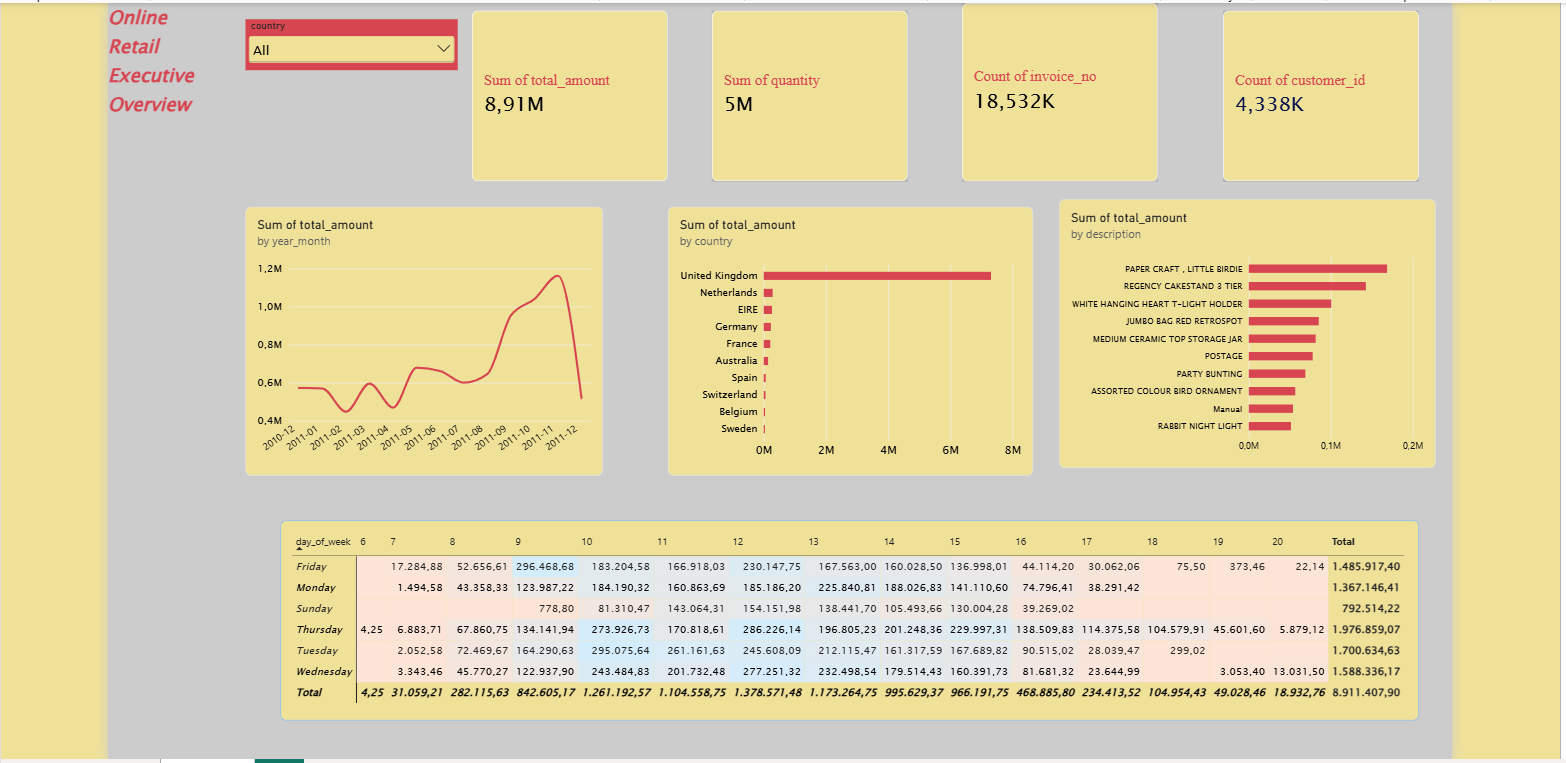

What the dashboard file says about the page in this screenshot:
{"tool":"powerbi","page":{"name":"Page 1","canvas":[1920,1080],"ordinal":0},"visuals":[{"type":"cardVisual","fields":{"Data":["Sum(public online_retail.total_amount)"]},"box":[519.6,10.7,280.4,244.6],"z":0},{"type":"cardVisual","fields":{"Data":["Sum(public online_retail.quantity)"]},"box":[862.5,10.7,280.4,244.6],"z":1000},{"type":"cardVisual","fields":{"Data":["Count(public online_retail.customer_id)"]},"box":[1592.9,10.7,280.4,244.6],"z":2000},{"type":"cardVisual","title":"Unique Invoices","fields":{"Data":["Count(public online_retail.invoice_no)"]},"box":[1219.6,0,280.4,255.4],"z":3000},{"type":"lineChart","fields":{"Category":["public online_retail.year_month"],"Y":["Sum(public online_retail.total_amount)"]},"box":[196.4,291.1,510.7,383.9],"z":4000},{"type":"clusteredBarChart","fields":{"Category":["public online_retail.country"],"Y":["Sum(public online_retail.total_amount)"]},"box":[800,291.1,521.4,383.9],"z":5000},{"type":"clusteredBarChart","fields":{"Category":["public online_retail.description"],"Y":["Sum(public online_retail.total_amount)"]},"box":[1358.9,280.4,537.5,383.9],"z":6000},{"type":"slicer","fields":{"Values":["public online_retail.country"]},"box":[196.4,23.2,303.6,73],"z":7000},{"type":"pivotTable","fields":{"Columns":["public online_retail.hour"],"Rows":["public online_retail.day_of_week"],"Values":["Sum(public online_retail.total_amount)"]},"box":[246.4,739.3,1626.8,285.7],"z":8000},{"type":"textbox","box":[0,0,148.2,1080.4],"z":9000}]}

Visuals, with their boxes on the page's 1920x1080 design canvas (x1, y1, x2, y2). These are canvas units, not pixel positions in the 1566x763 screenshot, which may show the page scaled, cropped or inside an application window:
cardVisual - Sum(public online_retail.total_amount): [x1=520, y1=11, x2=800, y2=255]
cardVisual - Sum(public online_retail.quantity): [x1=862, y1=11, x2=1143, y2=255]
cardVisual - Count(public online_retail.customer_id): [x1=1593, y1=11, x2=1873, y2=255]
"Unique Invoices" cardVisual: [x1=1220, y1=0, x2=1500, y2=255]
lineChart - public online_retail.year_month x Sum(public online_retail.total_amount): [x1=196, y1=291, x2=707, y2=675]
clusteredBarChart - public online_retail.country x Sum(public online_retail.total_amount): [x1=800, y1=291, x2=1321, y2=675]
clusteredBarChart - public online_retail.description x Sum(public online_retail.total_amount): [x1=1359, y1=280, x2=1896, y2=664]
slicer - public online_retail.country: [x1=196, y1=23, x2=500, y2=96]
pivotTable - public online_retail.hour x public online_retail.day_of_week: [x1=246, y1=739, x2=1873, y2=1025]
textbox: [x1=0, y1=0, x2=148, y2=1080]
